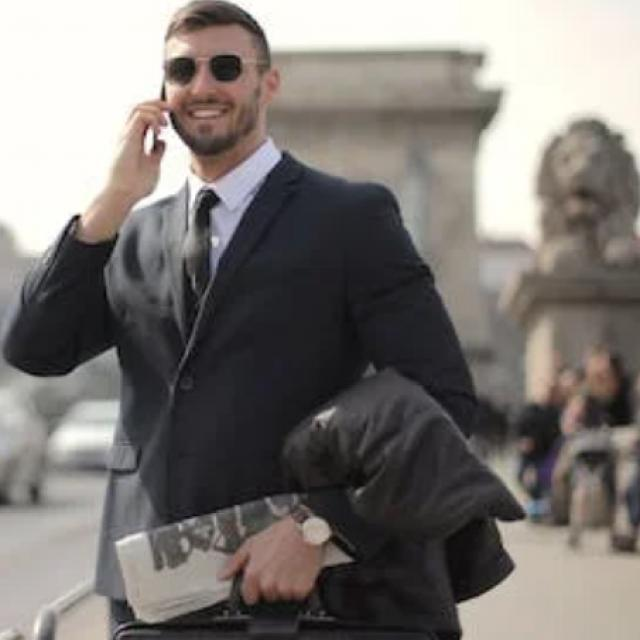Watch: (287, 500, 349, 564)
